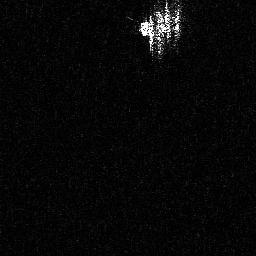ship: (136, 1, 182, 60)
